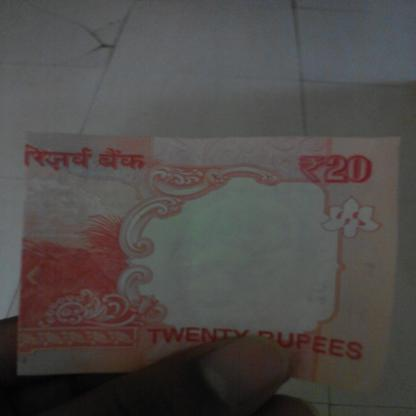Old20Back: (16, 136, 390, 372)
